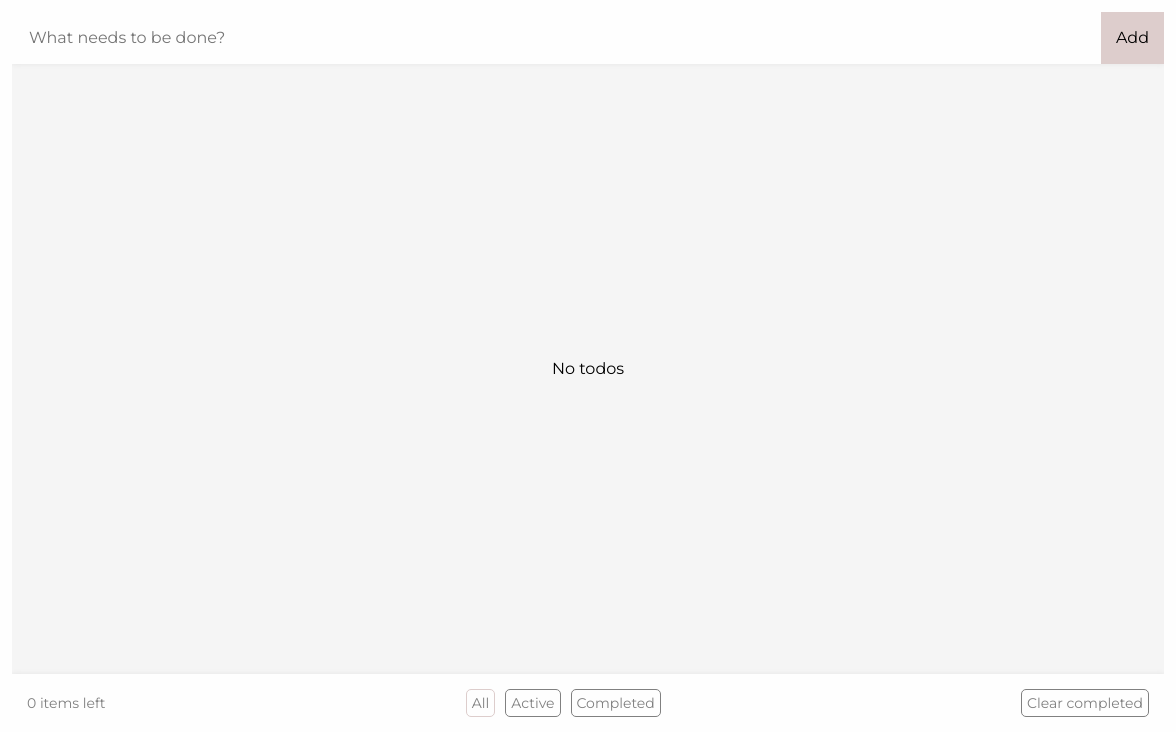
Test: TodoList component › submitting a form with a non-empty input adds a new todo item to the list
Step 1. Type "New todo" into the field with placeholder "What needs to be done?" → (556, 38), box [12,12,1101,64]
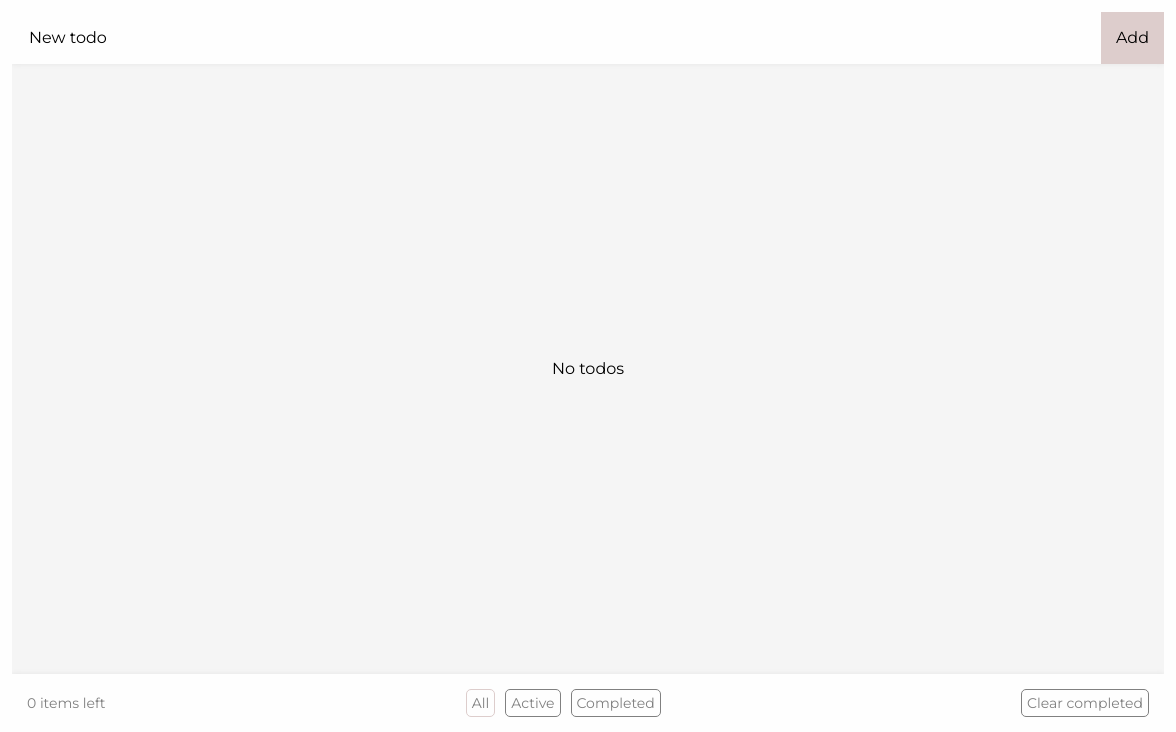
Step 2. Submit the form, box [12,12,1164,64]
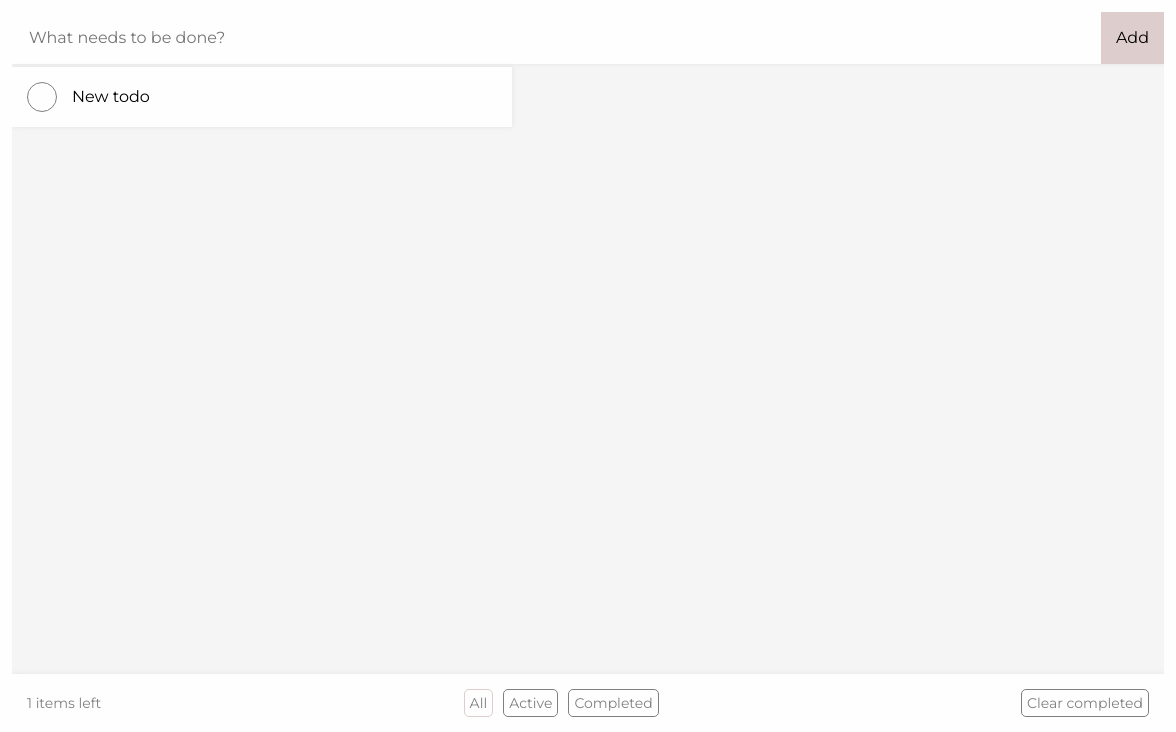
Expected: the text "New todo" is shown, [72,88,150,107]
